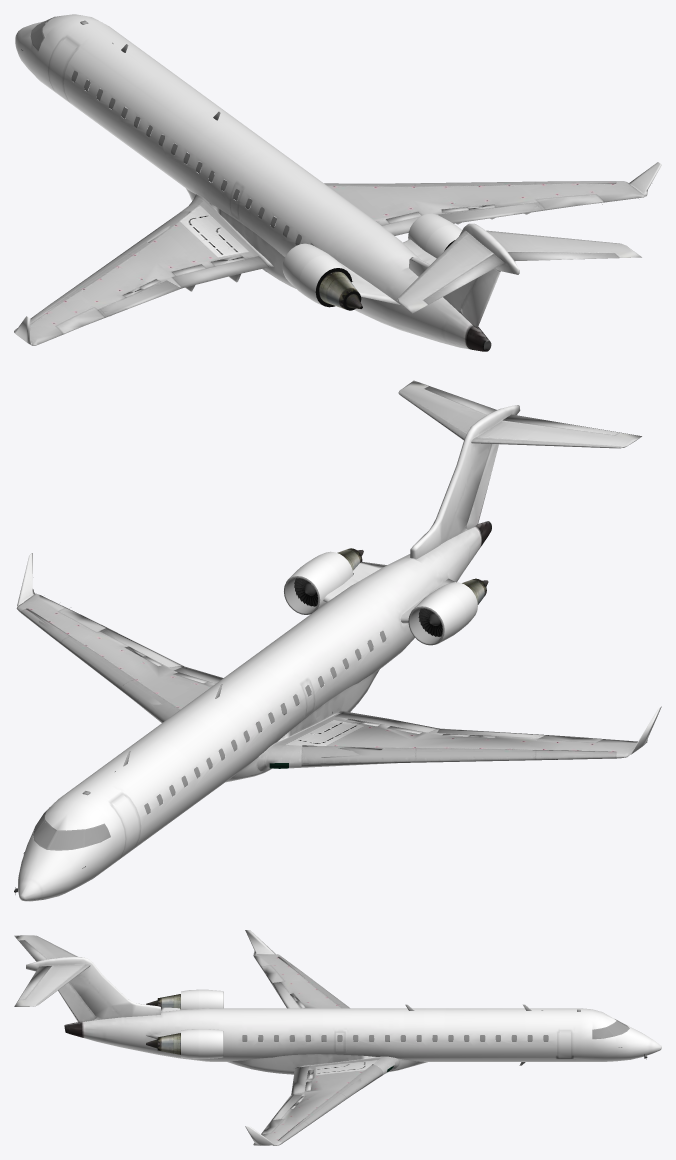
File: crj700.glb
3 views of the same model, one above another, from view 1: azimuth 30°, elevation 25°; view 2: azimuth 150°, elevation 25°; view 3: azimuth 270°, elevation 25° (orthographic). The views are drawn at different scales.
Parts seen in each view (by area): view 1: Reverser_001, CockpitWindows, Nozzle_001, ReverserRear_001; view 2: Reverser_001, CockpitWindows, Nozzle_001; view 3: Reverser_001, CockpitWindows, Nozzle_001.
Part boxes in pixels (bbox=[...]): Reverser_001: bbox=[14, 14, 661, 351]; CockpitWindows: bbox=[31, 18, 313, 245]; Nozzle_001: bbox=[319, 271, 362, 309]; ReverserRear_001: bbox=[21, 20, 602, 310]; Reverser_001: bbox=[16, 380, 661, 901]; CockpitWindows: bbox=[34, 630, 386, 849]; Nozzle_001: bbox=[284, 548, 488, 645]; Reverser_001: bbox=[14, 930, 661, 1145]; CockpitWindows: bbox=[242, 1019, 627, 1072]; Nozzle_001: bbox=[146, 992, 223, 1056].
Bounding box in the file's own units: 23.28 × 6.09 × 32.46.
4 materials, 4 textured.
